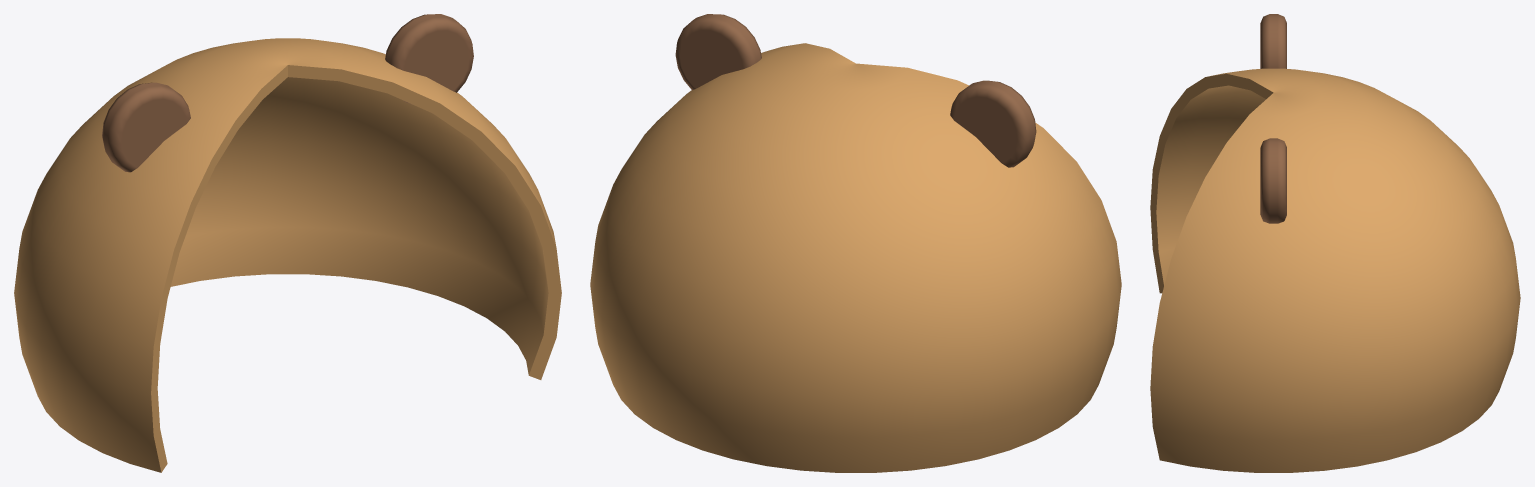
The model's file is bear_cap.glb.
The picture shows the model from 3 angles, left to right: view 1: azimuth 30°, elevation 25°; view 2: azimuth 150°, elevation 25°; view 3: azimuth 270°, elevation 25°; orthographic projection. The views are drawn at different scales.
Parts seen in each view (by area): view 1: bear_cap_Head; view 2: bear_cap_Head; view 3: bear_cap_Head.
Boxes of the visible parts, x1=… form: bear_cap_Head: x1=14, y1=14, x2=561, y2=472; bear_cap_Head: x1=590, y1=14, x2=1121, y2=472; bear_cap_Head: x1=1150, y1=14, x2=1520, y2=472.
Size of the model in its own units: 0.7379 by 0.491 by 0.555.
